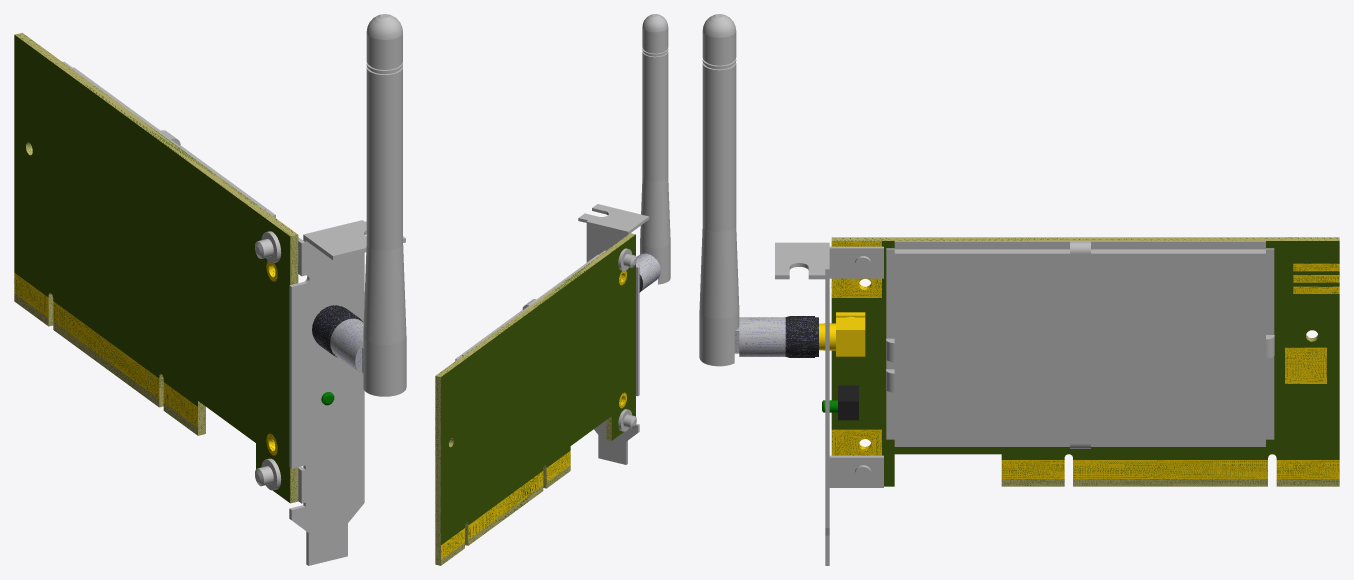
3 renders of one model, left to right at view 1: azimuth 30°, elevation 25°; view 2: azimuth 150°, elevation 25°; view 3: azimuth 270°, elevation 25°, orthographic. The views are drawn at different scales.
Visible parts, largest first — view 1: group_0 (×5), group_3, group_9 (×2), group_8 (×2), group_6; view 2: group_0 (×5), group_9 (×2), group_3, group_8, group_6; view 3: group_6, group_0 (×8), group_9 (×2), group_3, group_8 (×2), group_5.
Part boxes in pixels (x1,y1,x2,y2): group_0 (×5): (14, 32, 298, 503); group_3: (289, 220, 405, 565); group_9 (×2): (363, 14, 406, 396); group_8 (×2): (313, 305, 363, 374); group_6: (63, 61, 275, 217); group_0 (×5): (435, 233, 635, 565); group_9 (×2): (640, 14, 670, 284); group_3: (578, 204, 649, 464); group_8: (636, 253, 660, 291); group_6: (455, 250, 605, 360); group_6: (886, 241, 1274, 448); group_0 (×8): (831, 237, 1339, 486); group_9 (×2): (699, 14, 739, 366); group_3: (775, 242, 883, 565); group_8 (×2): (739, 316, 814, 357); group_5: (836, 317, 865, 356).
Bounding box in the file's own units: 1 × 6 × 5.6.
